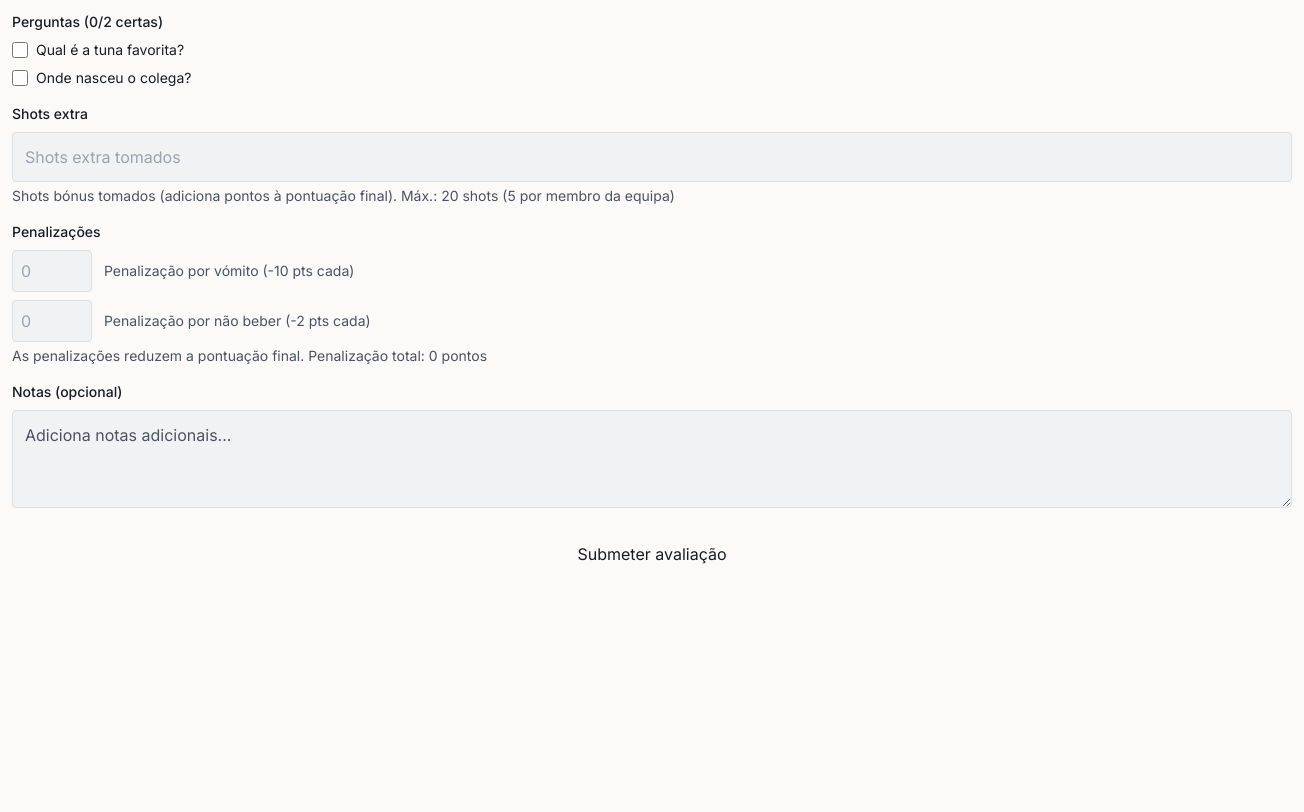
Test: ScoreBasedForm › quiz mode › unchecking a question drops the count back down
Click the checkbox labelled "Qual é a tuna favorita?". click: point(20, 50)
box: [12,42,28,58]
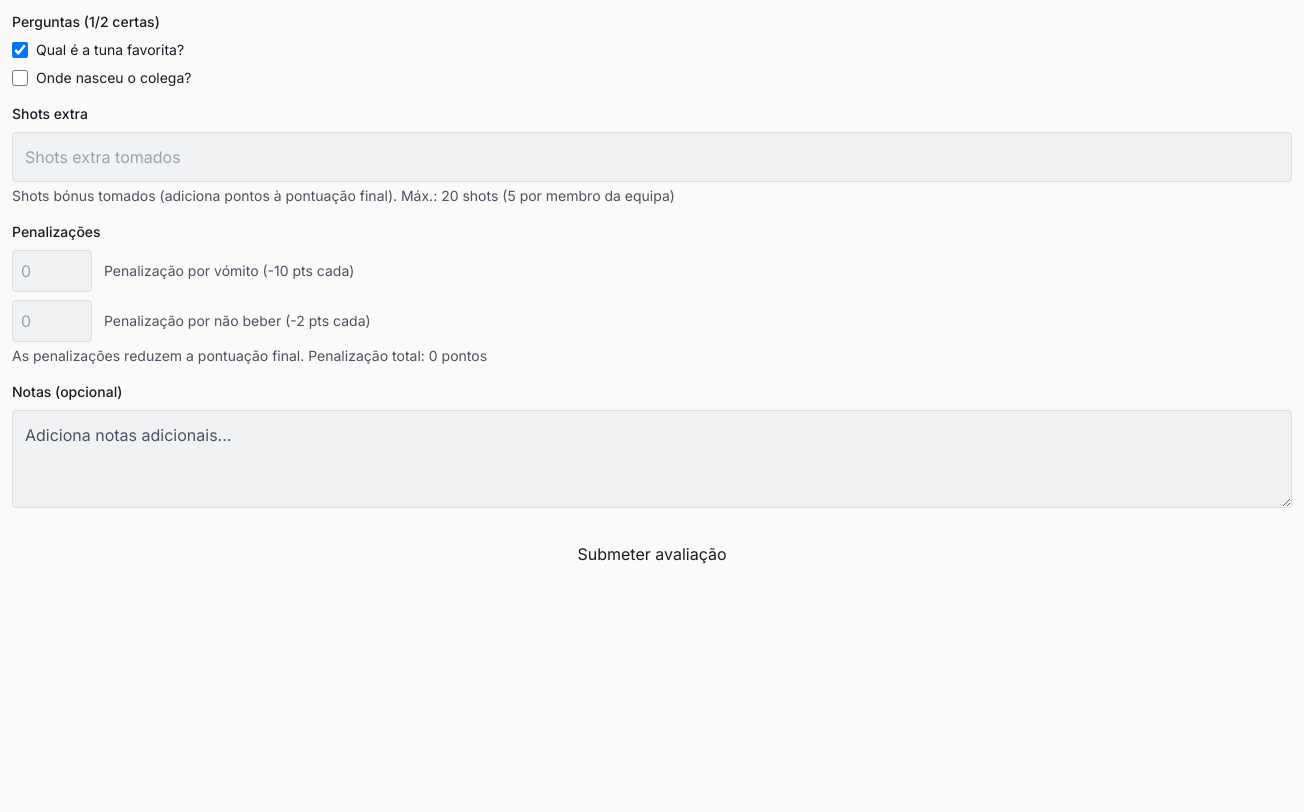
Click the checkbox labelled "Qual é a tuna favorita?". click: point(20, 50)
box: [12,42,28,58]
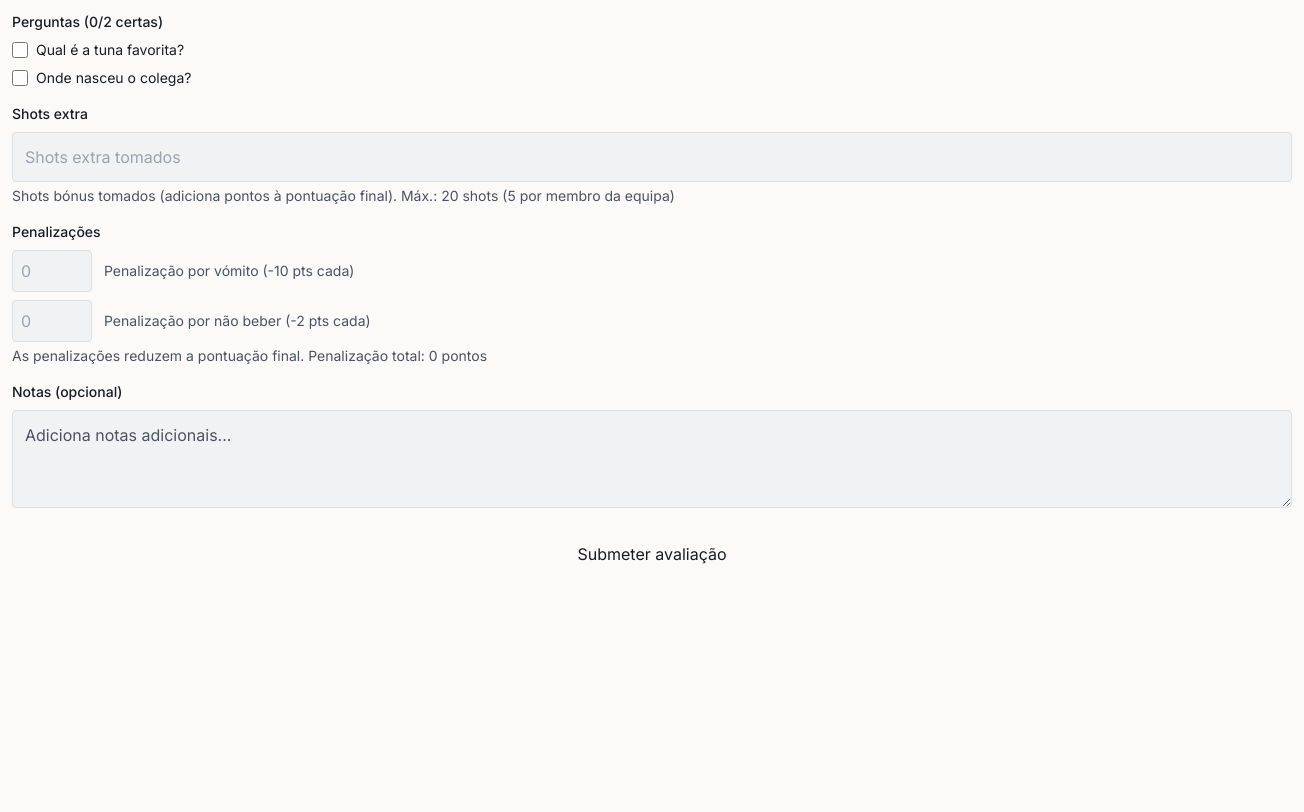
expect the text "Perguntas (0/2 certas)" is shown: met, box [12,12,163,32]
